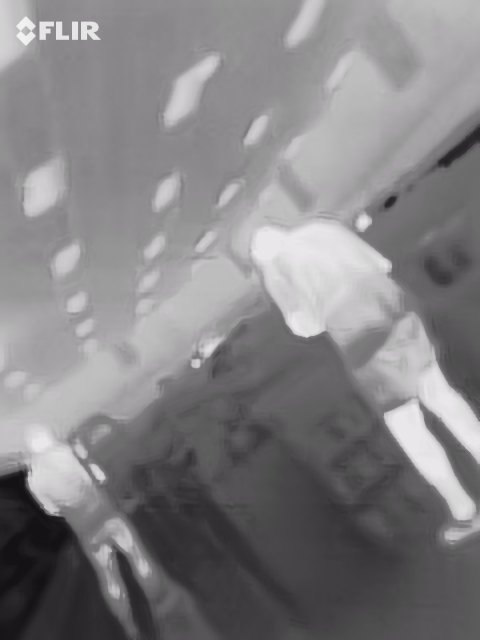head: (236, 226, 284, 266), (25, 430, 52, 457)
